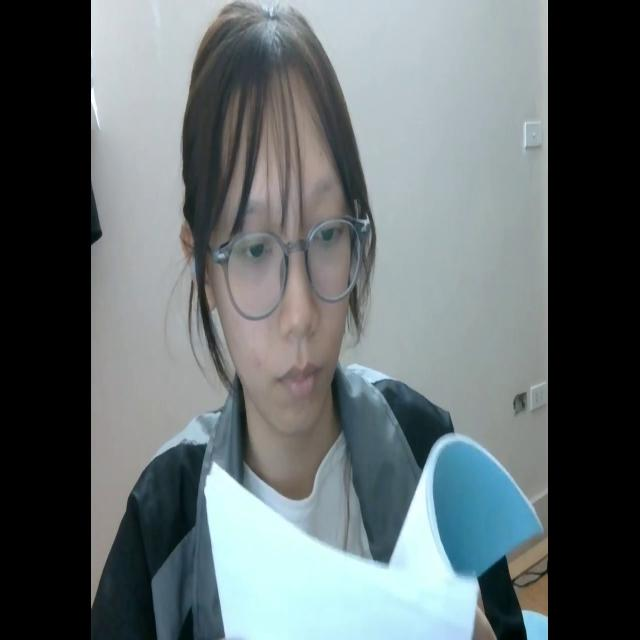book: (200, 423, 538, 640)
student: (103, 3, 539, 640)
